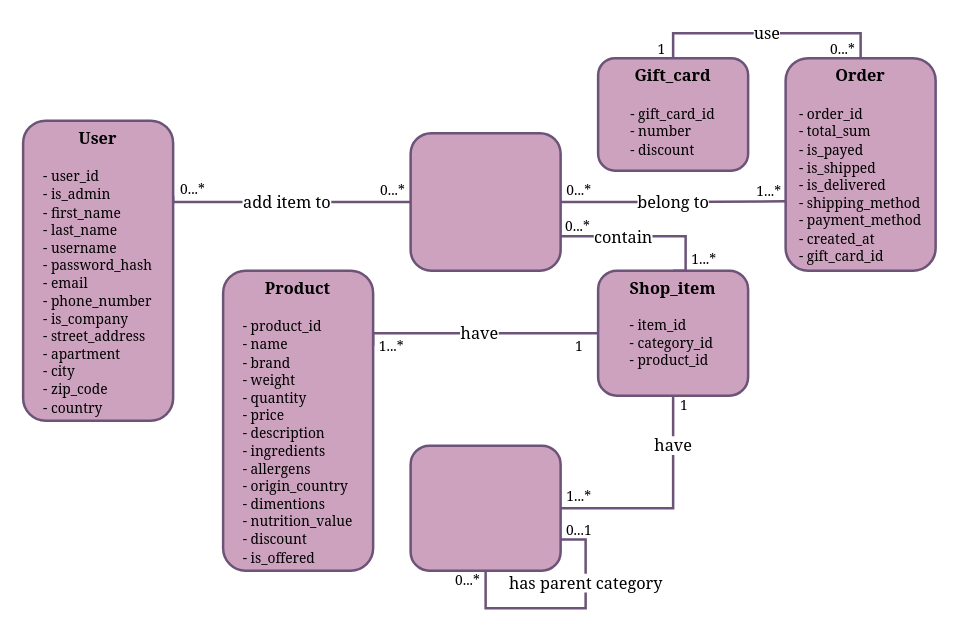
Image size: 958x631. Some labels were removed from this diagram. Each missing label, with the box of its shape:
Category - category_id - name - description - parent_category_id: (409, 444, 561, 571)
Shopping_cart - cart_id - user_id - order_id - item_id - quantity: (409, 131, 561, 271)
